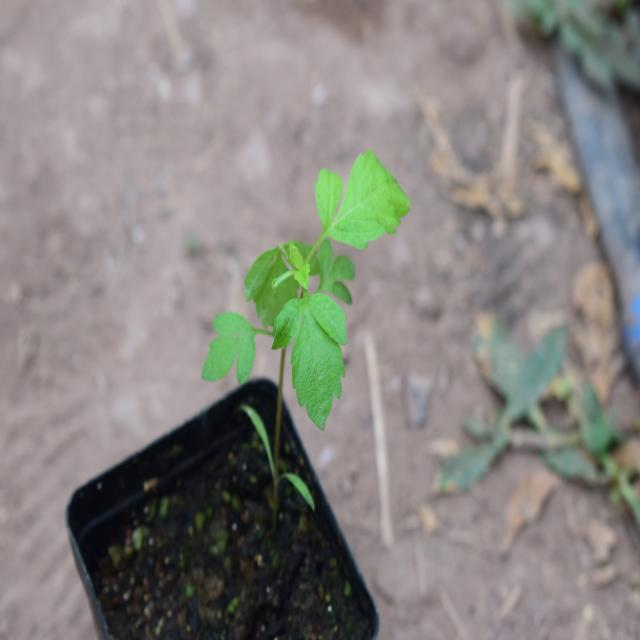Bidens pilosa: (193, 129, 412, 445)
